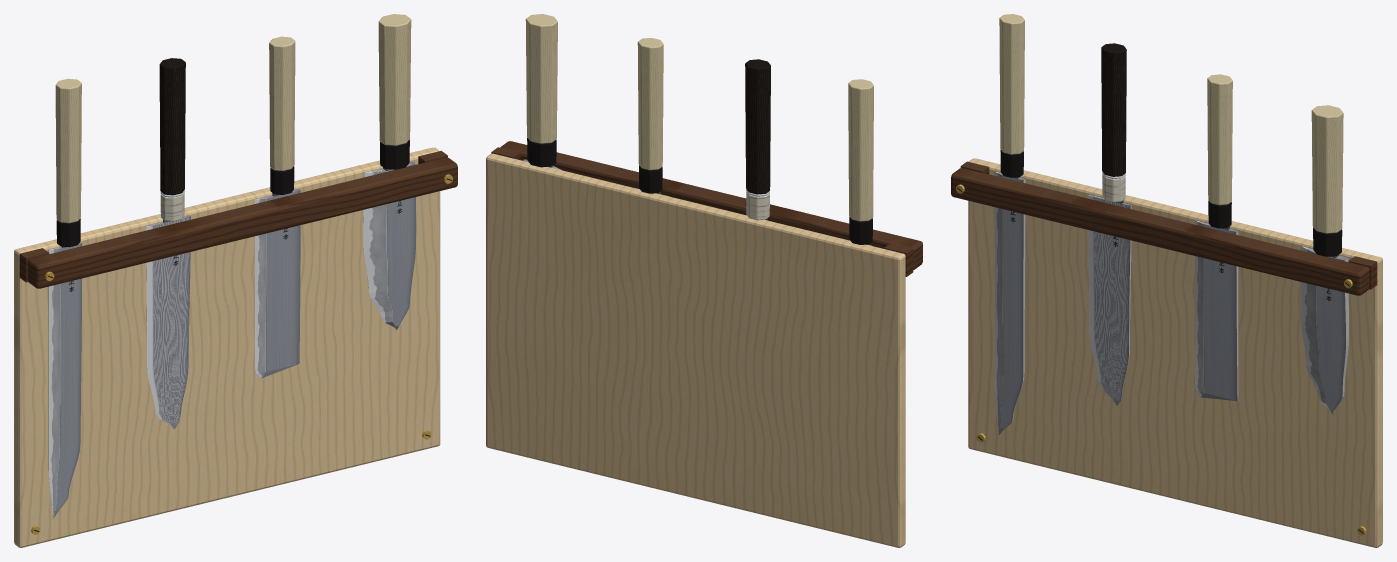
Rendered from knives.glb.
The picture shows the model from 3 angles, left to right: view 1: azimuth 30°, elevation 25°; view 2: azimuth 150°, elevation 25°; view 3: azimuth 330°, elevation 25°; orthographic projection. The views are drawn at different scales.
Visible parts, largest first — view 1: KnifeBoard, KnifeRail, KnifeYanagiba, KnifeGyuto, KnifeUsuba, KnifeDeba, KnifeDebaHandle, KnifeYanagibaHandle, KnifeGyutoHandle, KnifeUsubaHandle, KnifeDebaFerrule, KnifeGyutoFerrule (+2 smaller); view 2: KnifeBoard, KnifeRail, KnifeDebaHandle, KnifeYanagibaHandle, KnifeGyutoHandle, KnifeUsubaHandle, KnifeDebaFerrule, KnifeUsubaFerrule, KnifeGyutoFerrule, KnifeYanagibaFerrule; view 3: KnifeBoard, KnifeRail, KnifeYanagiba, KnifeGyuto, KnifeUsuba, KnifeDeba, KnifeDebaHandle, KnifeYanagibaHandle, KnifeGyutoHandle, KnifeUsubaHandle, KnifeDebaFerrule, KnifeGyutoFerrule (+2 smaller).
Part boxes in pixels (x1,y1,x2,y2): KnifeBoard: (14, 147, 440, 547); KnifeRail: (27, 157, 457, 288); KnifeYanagiba: (48, 242, 82, 519); KnifeGyuto: (146, 215, 190, 429); KnifeUsuba: (255, 189, 300, 378); KnifeDeba: (363, 161, 416, 330); KnifeDebaHandle: (378, 14, 411, 145); KnifeYanagibaHandle: (55, 78, 81, 223); KnifeGyutoHandle: (159, 58, 185, 195); KnifeUsubaHandle: (269, 36, 295, 170); KnifeDebaFerrule: (380, 139, 409, 169); KnifeGyutoFerrule: (160, 192, 184, 221); KnifeBoard: (486, 153, 905, 547); KnifeRail: (500, 141, 922, 269); KnifeDebaHandle: (525, 14, 557, 143); KnifeYanagibaHandle: (848, 79, 873, 221); KnifeGyutoHandle: (745, 59, 770, 194); KnifeUsubaHandle: (637, 38, 663, 170); KnifeDebaFerrule: (527, 137, 556, 167); KnifeUsubaFerrule: (639, 165, 662, 193); KnifeGyutoFerrule: (746, 192, 769, 220); KnifeYanagibaFerrule: (849, 216, 872, 244); KnifeBoard: (968, 158, 1382, 547); KnifeRail: (951, 168, 1369, 295); KnifeYanagiba: (994, 171, 1025, 435); KnifeGyuto: (1088, 195, 1131, 405); KnifeUsuba: (1195, 220, 1238, 400); KnifeDeba: (1300, 246, 1348, 414); KnifeDebaHandle: (1311, 105, 1343, 233); KnifeYanagibaHandle: (999, 14, 1024, 154); KnifeGyutoHandle: (1101, 43, 1126, 176); KnifeUsubaHandle: (1207, 74, 1232, 205); KnifeDebaFerrule: (1313, 227, 1342, 256); KnifeGyutoFerrule: (1102, 174, 1125, 202).
Size of the model in its own units: 0.44 by 0.454 by 0.0471.
Materials: 12 (7 with a texture image).
